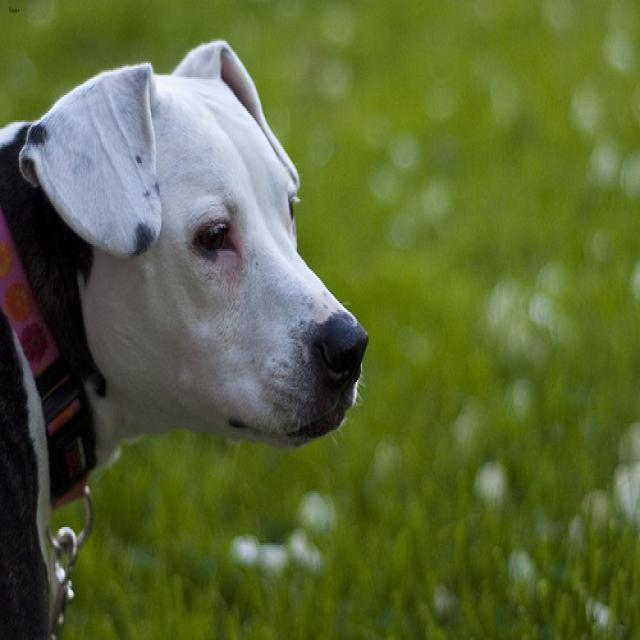dog-american_pit_bull_terrier: (1, 29, 374, 636)
